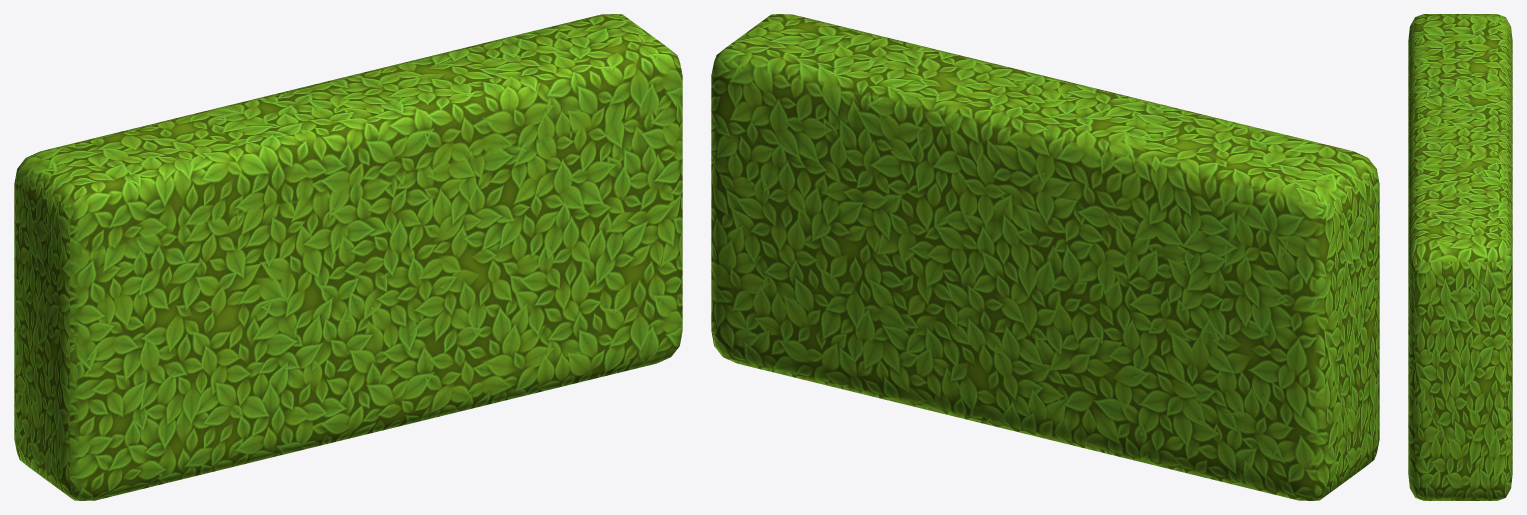
The model's file is Hedge01_5.FBX.
3 views of the same model, side by side, from view 1: azimuth 30°, elevation 25°; view 2: azimuth 150°, elevation 25°; view 3: azimuth 270°, elevation 25° (orthographic). The views are drawn at different scales.
Visible parts, largest first — view 1: Hedge01_5; view 2: Hedge01_5; view 3: Hedge01_5.
Part boxes in pixels (left/top/right/bottom): Hedge01_5: left=14, top=14, right=682, bottom=500; Hedge01_5: left=711, top=14, right=1379, bottom=500; Hedge01_5: left=1408, top=14, right=1512, bottom=500.
Size of what is drawn, in the model's own units: 4.5 by 2.19 by 0.8086.
